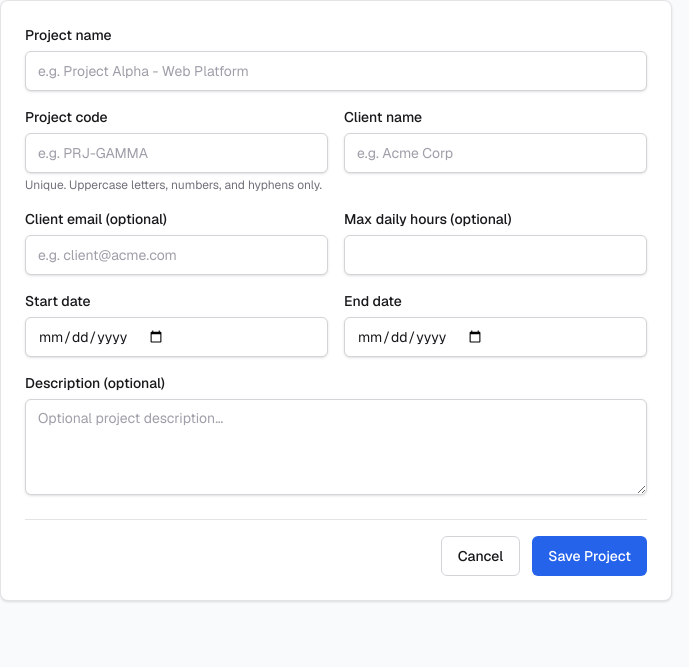
Test: ProjectForm › shows a validation error and does not submit when required fields are missing
Click the button "Save Project" at (590, 556), box [532,536,647,576]
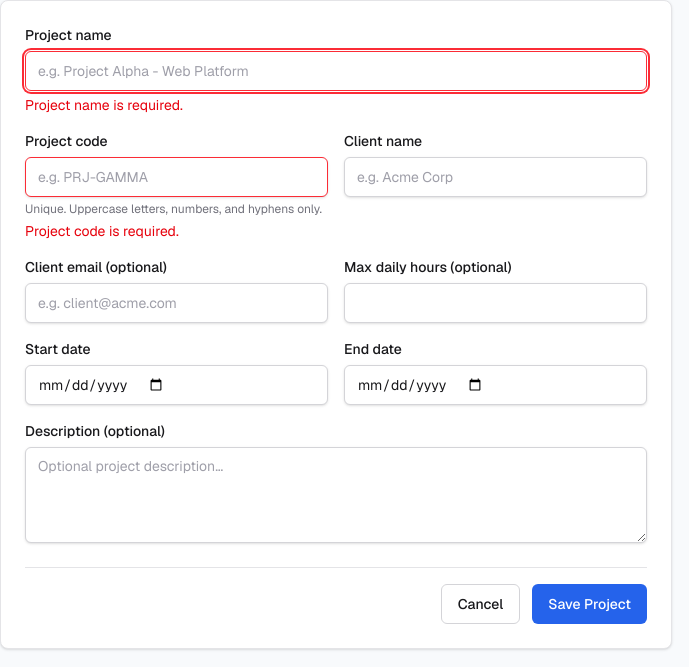
Now the text "Project name is required." is shown, box [25,96,183,114]
